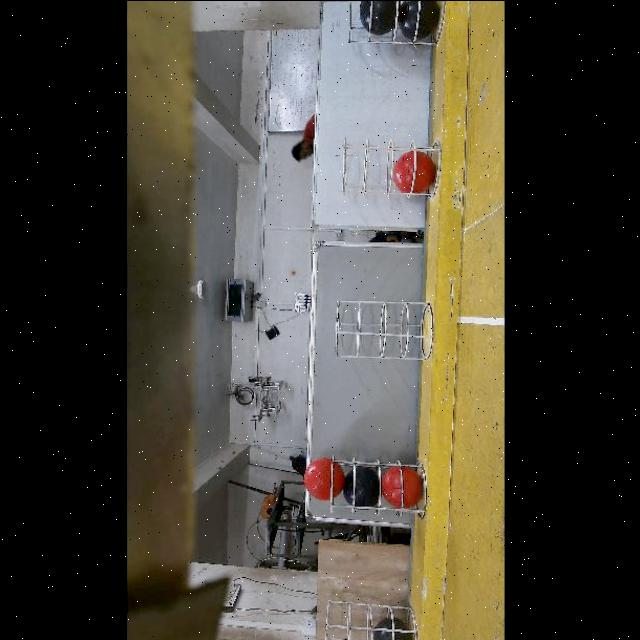P: (398, 0, 440, 39), (343, 466, 380, 509), (360, 0, 397, 34), (374, 616, 412, 640)
R: (395, 149, 435, 193), (305, 457, 345, 500), (382, 466, 423, 506)
S: (332, 297, 436, 363), (328, 453, 429, 519), (336, 140, 442, 196), (340, 0, 436, 46), (319, 598, 417, 640)
